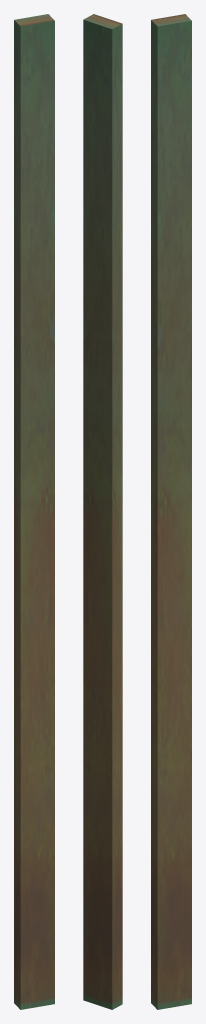
File: GH_1_ColL_8.gltf
3 views of the same model, side by side, from view 1: azimuth 90°, elevation 25°; view 2: azimuth 210°, elevation 25°; view 3: azimuth 270°, elevation 25° (orthographic).
Parts seen in each view (by area): view 1: GH_1_ColL_8; view 2: GH_1_ColL_8; view 3: GH_1_ColL_8.
Part boxes in pixels (box(x1,y1,x2,y2)): GH_1_ColL_8: box(14, 14, 54, 1009); GH_1_ColL_8: box(83, 14, 122, 1009); GH_1_ColL_8: box(151, 14, 191, 1009).
Size of the model in its own units: 0.1878 by 6.85 by 0.257.
1 material, 1 textured.
